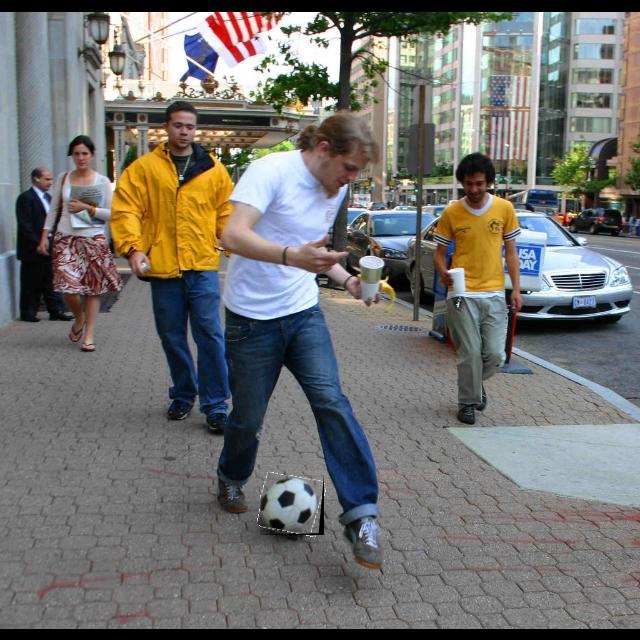Football: (260, 475, 324, 535)
